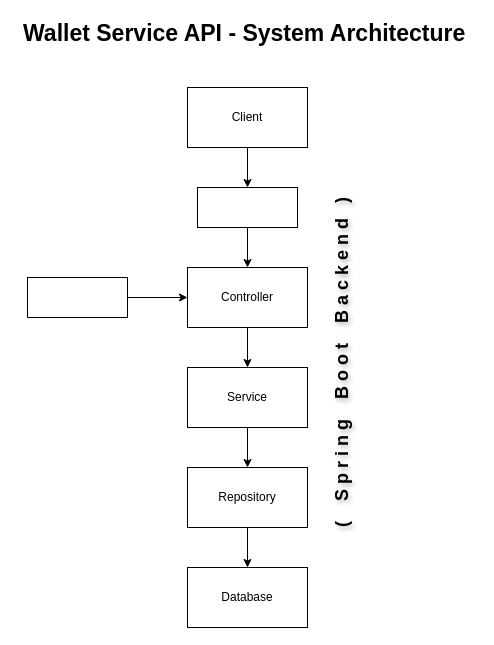
Some shapes in this 494 by 645 pixel diagram are drawn without their labels. Each missing label, with the box of its shape:
Exception Handler: (26, 276, 128, 318)
JWT Filter: (196, 186, 298, 228)
